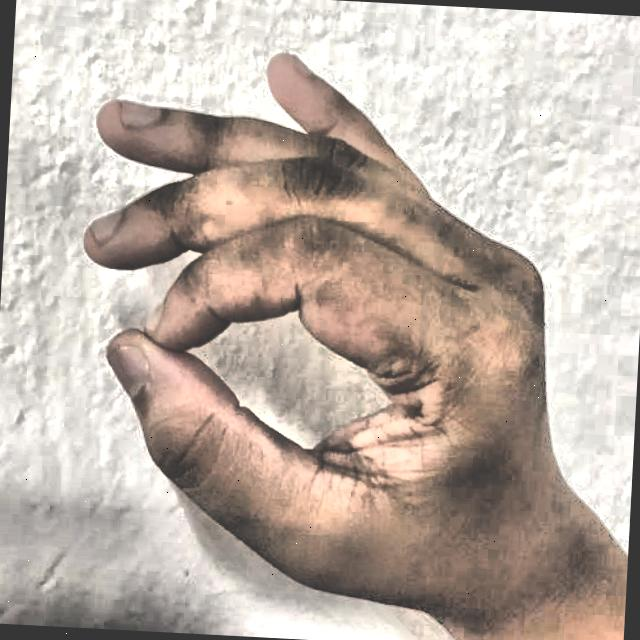Yo: (31, 15, 616, 640)
